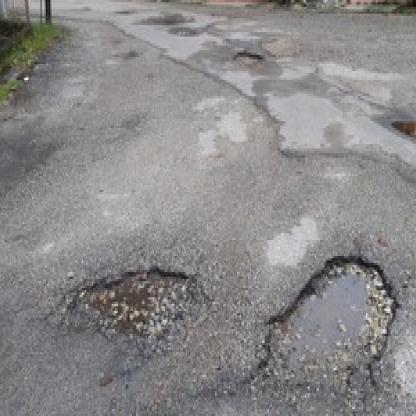pothole: (257, 254, 401, 398), (64, 270, 195, 354), (233, 48, 263, 64)
